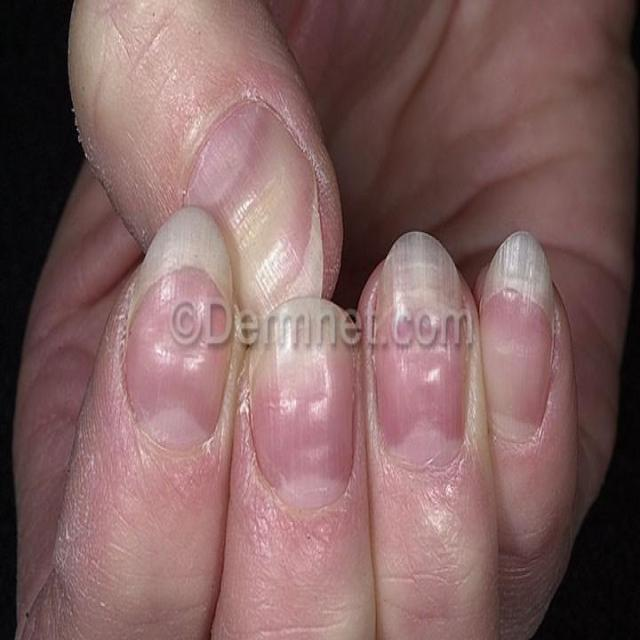Nail: (186, 97, 322, 319), (126, 206, 235, 445), (374, 232, 469, 469), (252, 298, 354, 511), (479, 232, 556, 442)
